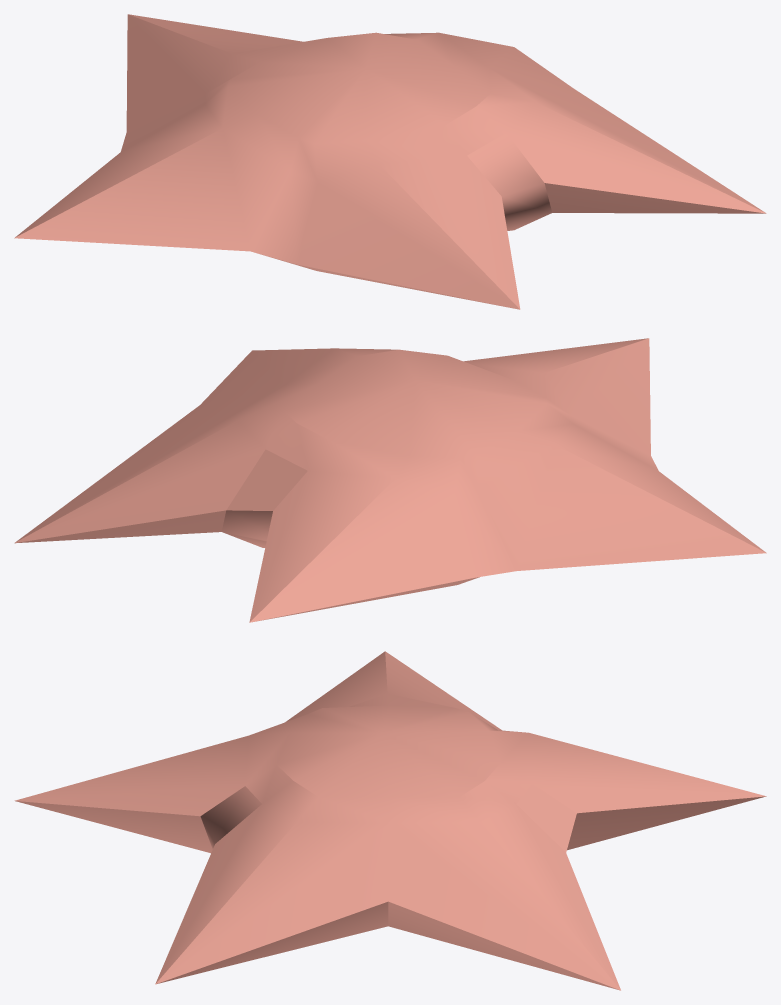
File: SM_Seastar_Thick.fbx
The picture shows the model from 3 angles, top to bottom: view 1: azimuth 30°, elevation 25°; view 2: azimuth 150°, elevation 25°; view 3: azimuth 270°, elevation 25°; orthographic projection. The views are drawn at different scales.
Visible parts, largest first — view 1: SM_SeaStar_Thick; view 2: SM_SeaStar_Thick; view 3: SM_SeaStar_Thick.
Boxes of the visible parts, x1,y1,x2,y2 form: SM_SeaStar_Thick: (14,14,766,309); SM_SeaStar_Thick: (14,338,766,622); SM_SeaStar_Thick: (14,651,766,990).
Size of the model in its own units: 47.01 by 9.89 by 50.88.
